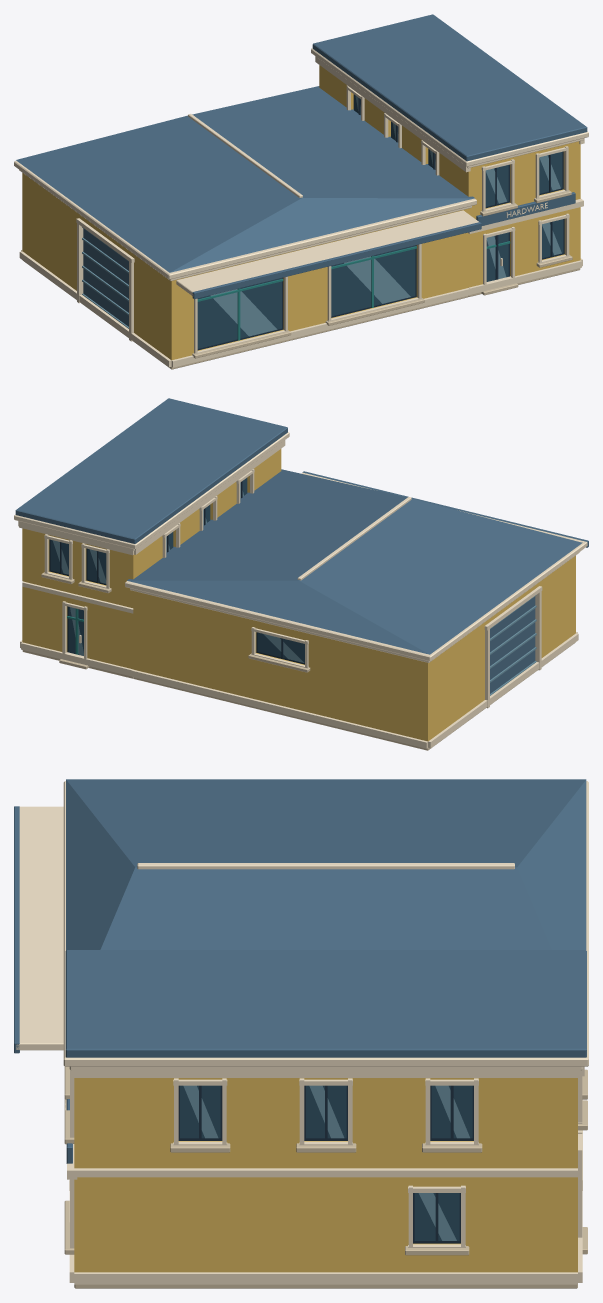
Rendered from hardware_superstore.glb.
3 renders of one model, top to bottom at view 1: azimuth 30°, elevation 25°; view 2: azimuth 150°, elevation 25°; view 3: azimuth 270°, elevation 25°, orthographic. The views are drawn at different scales.
Visible parts, largest first — view 1: HardwareSuperstore_StaticMesh; view 2: HardwareSuperstore_StaticMesh; view 3: HardwareSuperstore_StaticMesh.
Boxes of the visible parts, x1,y1,x2,y2 form: HardwareSuperstore_StaticMesh: (14, 14, 588, 369); HardwareSuperstore_StaticMesh: (14, 398, 588, 750); HardwareSuperstore_StaticMesh: (14, 779, 588, 1288).
Size of the model in its own units: 19.52 by 6.4 by 13.7.
